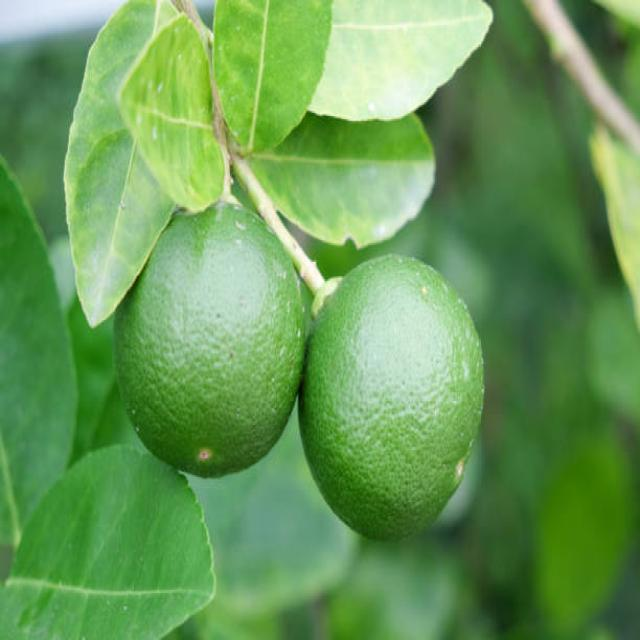Unripe: (300, 249, 486, 542), (115, 200, 307, 480)
